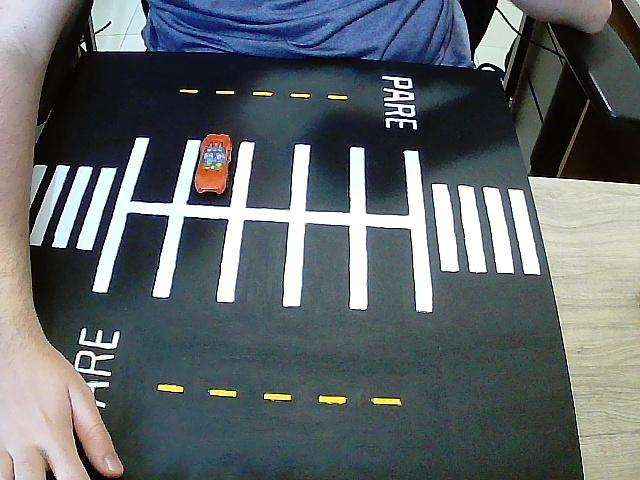Carro: (194, 134, 233, 195)
